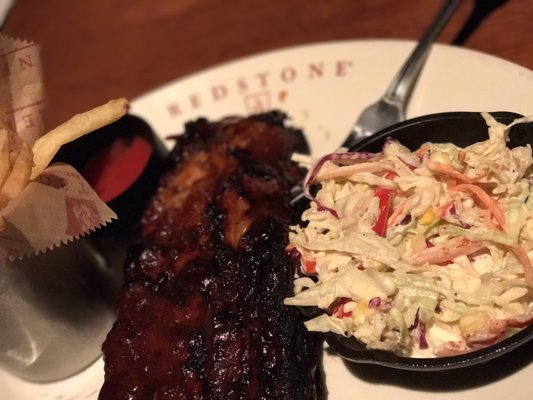soup: (284, 118, 533, 361)
